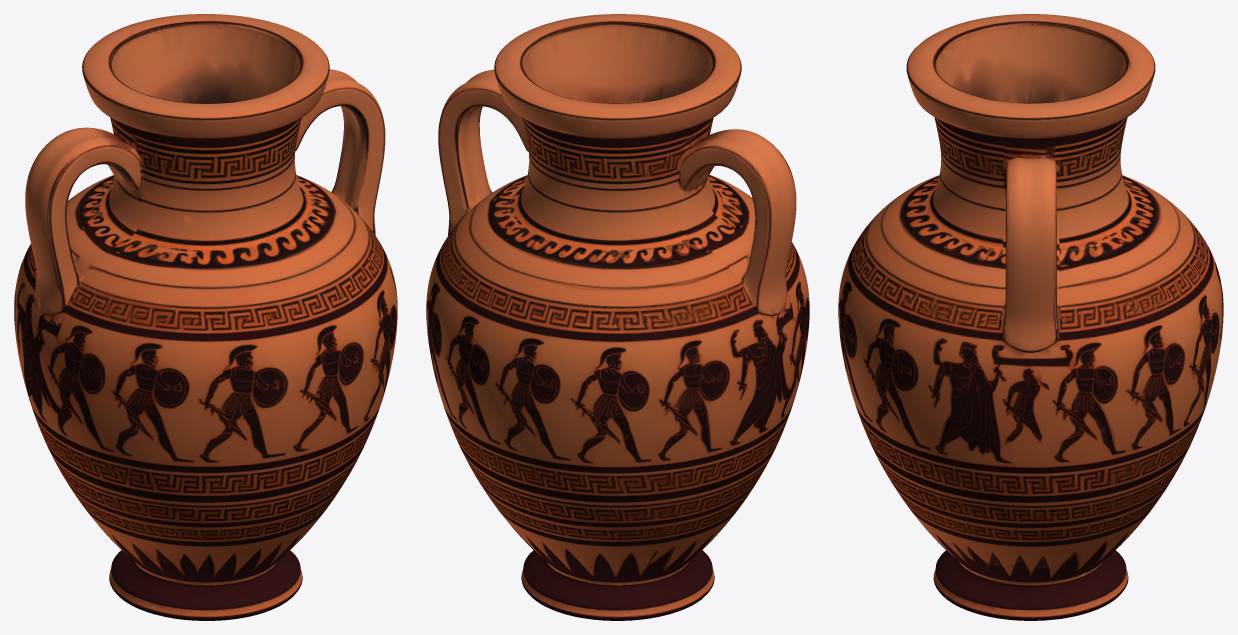
The model's file is prop_amphora.glb.
3 renders of one model, left to right at view 1: azimuth 30°, elevation 25°; view 2: azimuth 150°, elevation 25°; view 3: azimuth 270°, elevation 25°, orthographic.
Visible parts, largest first — view 1: material; view 2: material; view 3: material.
Part boxes in pixels (box(x1,y1,x2,y2)): material: box(14, 14, 397, 620); material: box(426, 14, 809, 620); material: box(838, 14, 1223, 620).
Size of the model in its own units: 0.7635 by 1.12 by 0.7455.
1 material, 1 textured.
